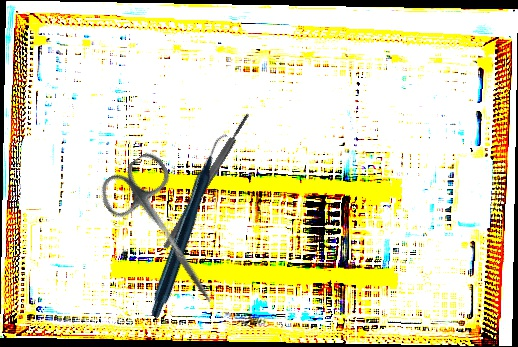Handpiece: (91, 133, 290, 319)
Iris Scissors: (93, 147, 242, 321)
Scalpel Handle: (160, 111, 253, 251)
